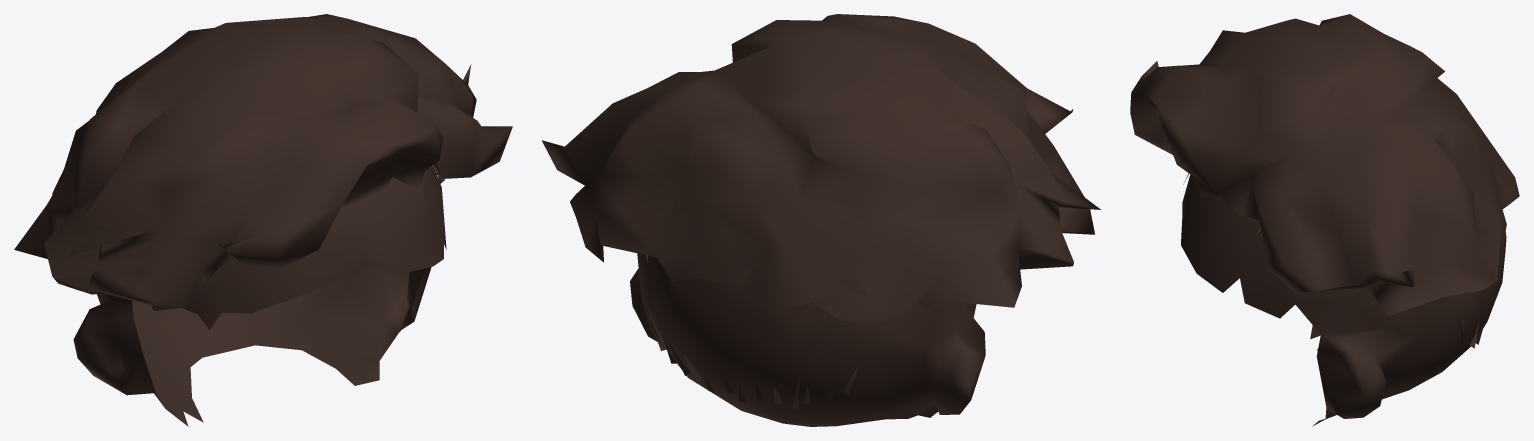
File: waves.glb
3 views of the same model, side by side, from view 1: azimuth 30°, elevation 25°; view 2: azimuth 150°, elevation 25°; view 3: azimuth 270°, elevation 25° (orthographic). The views are drawn at different scales.
Visible parts, largest first — view 1: Hair, HairScalp; view 2: Hair, HairScalp, HairPulledRootStrands; view 3: Hair, HairScalp.
Boxes of the visible parts, box(x1,y1,x2,y2) form: Hair: box(14, 14, 512, 310); HairScalp: box(73, 169, 446, 426); Hair: box(542, 14, 1100, 321); HairScalp: box(630, 253, 985, 426); HairPulledRootStrands: box(645, 255, 871, 409); Hair: box(1130, 14, 1519, 316); HairScalp: box(1181, 174, 1506, 426).
Size of the model in its own units: 0.6973 by 0.5118 by 0.522.
